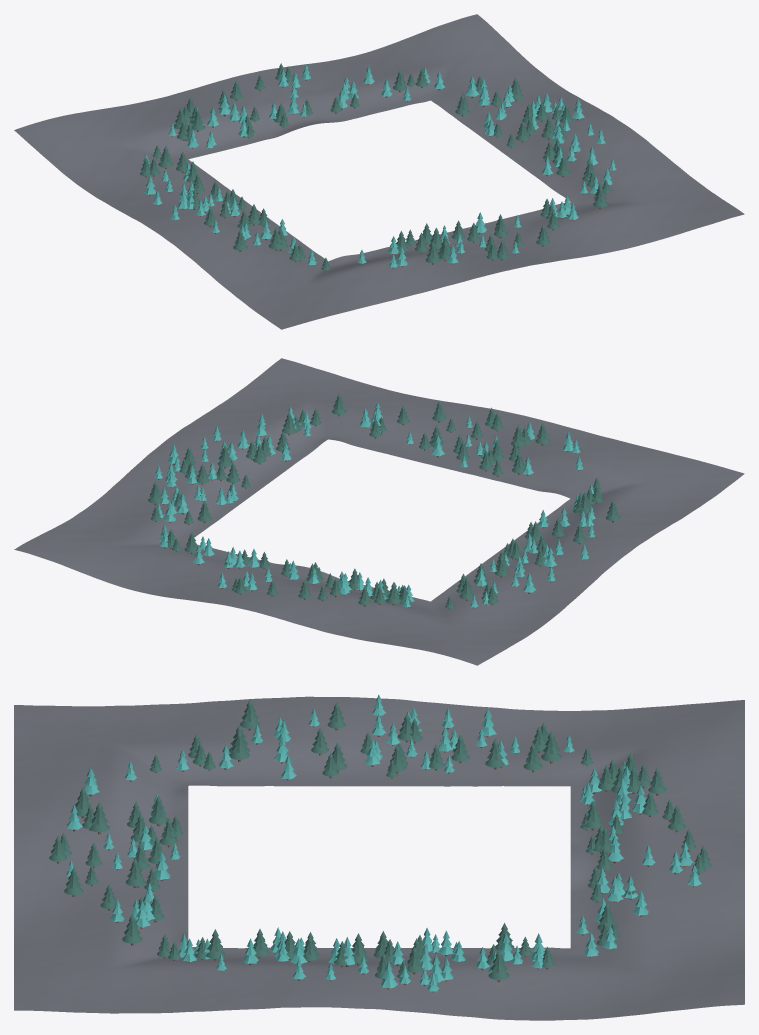
Rendered from CursedCandyCarnival_Background.fbx.
The picture shows the model from 3 angles, top to bottom: view 1: azimuth 30°, elevation 25°; view 2: azimuth 150°, elevation 25°; view 3: azimuth 270°, elevation 25°; orthographic projection. The views are drawn at different scales.
Parts seen in each view (by area): view 1: CUR_Terrain_Decor; view 2: CUR_Terrain_Decor; view 3: CUR_Terrain_Decor.
Part boxes in pixels (left/top/right/bottom): CUR_Terrain_Decor: left=14, top=14, right=744, bottom=329; CUR_Terrain_Decor: left=14, top=358, right=744, bottom=665; CUR_Terrain_Decor: left=14, top=696, right=744, bottom=1020.
Bounding box in the file's own units: 650 × 44.1 × 650.
